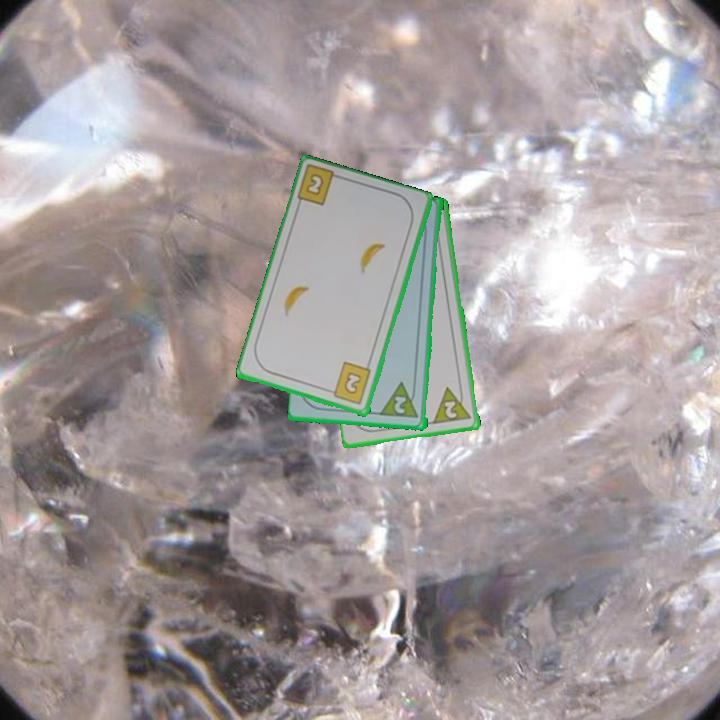2b: (324, 359, 374, 408), (294, 163, 346, 209)
2p: (430, 382, 474, 427), (391, 393, 410, 417)
